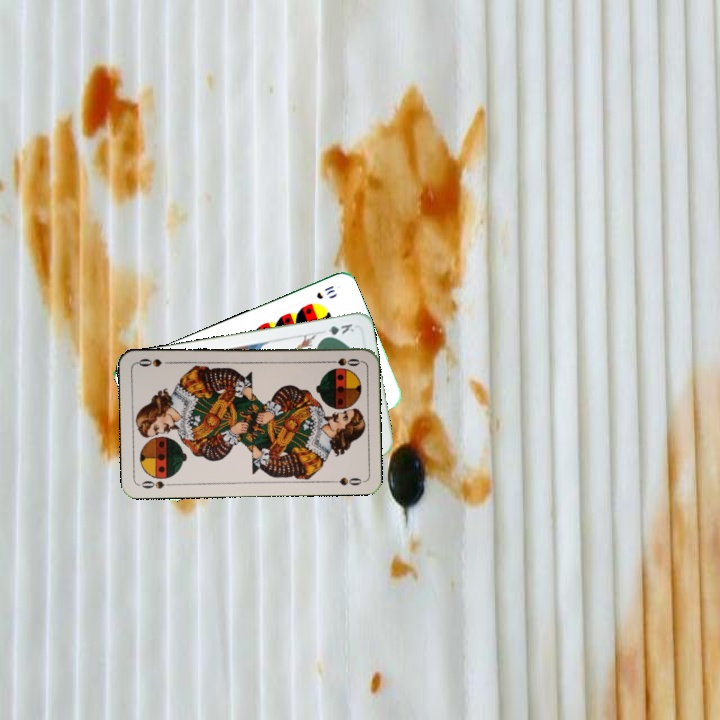GK: (318, 320, 357, 341)
S10: (312, 282, 338, 302)
SO: (322, 354, 363, 369), (137, 476, 177, 491)
